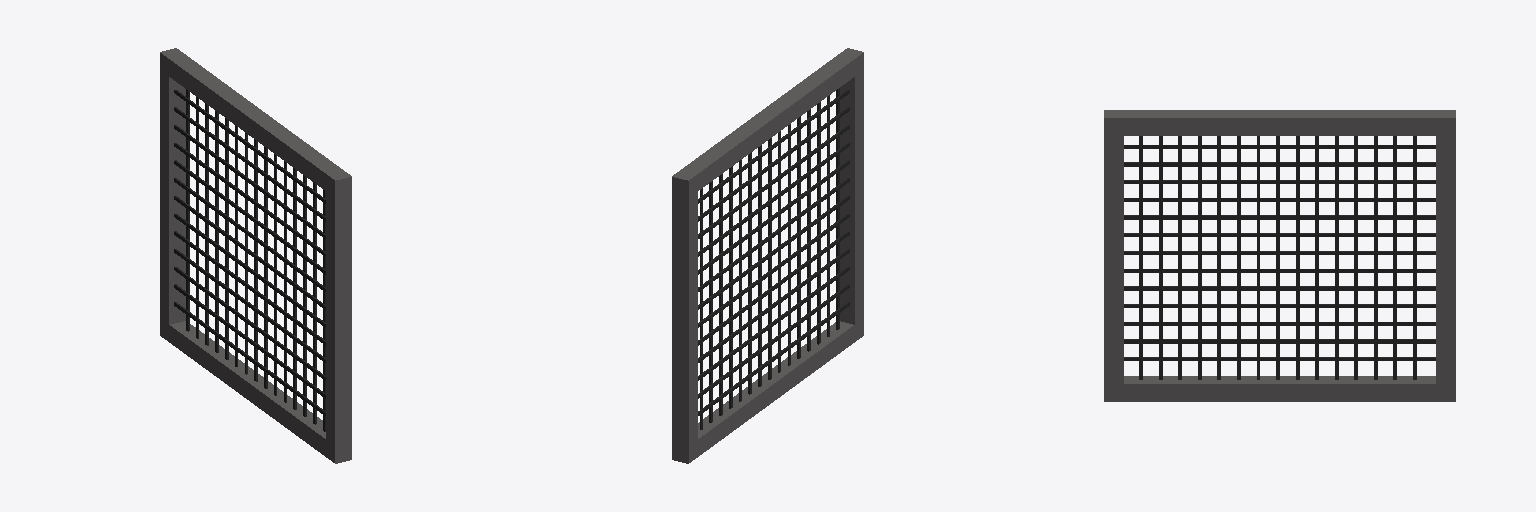
3 views of the same model, side by side, from view 1: azimuth 30°, elevation 25°; view 2: azimuth 150°, elevation 25°; view 3: azimuth 270°, elevation 25° (orthographic).
Visible parts, largest first — view 1: cuboid; view 2: cuboid; view 3: cuboid.
Boxes of the visible parts, box(x1,y1,x2,y2) form: cuboid: box(160, 48, 351, 463); cuboid: box(672, 48, 863, 463); cuboid: box(1104, 110, 1455, 401).
Size of the model in its own units: 0.0625 by 1 by 1.12.
Materials: 1 (1 with a texture image).